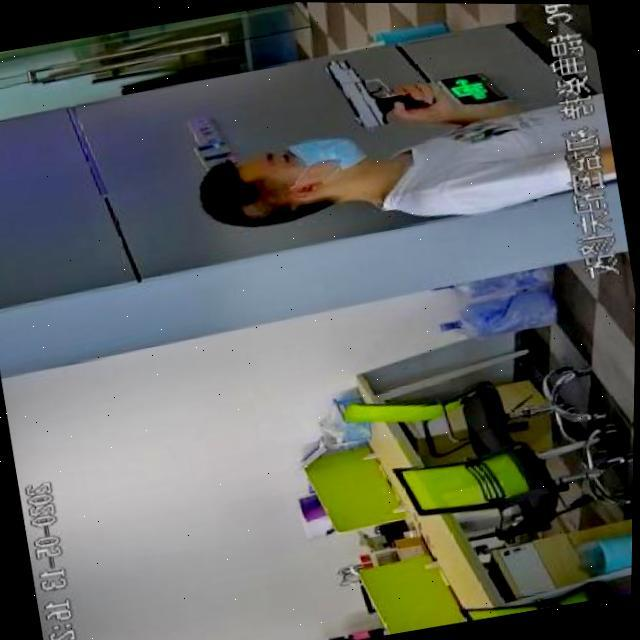gun: (297, 34, 448, 144)
